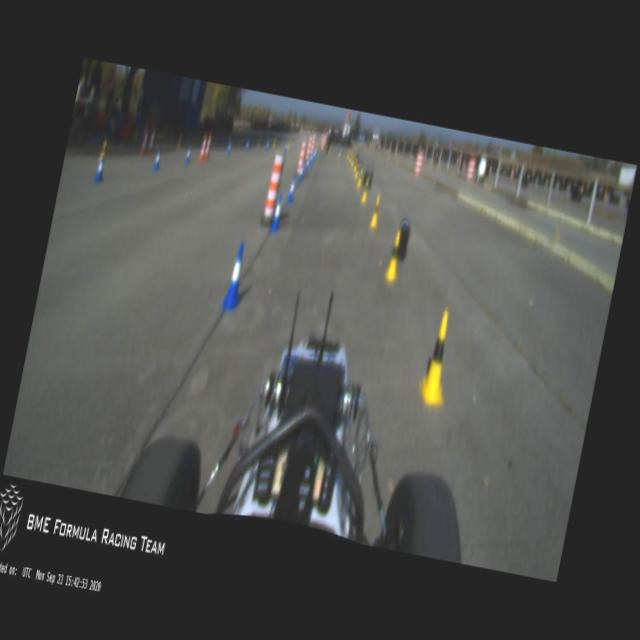blue_cone: (220, 240, 252, 312), (270, 195, 284, 233), (92, 156, 108, 184), (286, 177, 297, 204), (152, 148, 162, 172), (184, 145, 192, 164), (304, 156, 312, 174), (298, 163, 305, 182), (226, 140, 232, 156), (244, 140, 250, 152)
large_orange_cone: (198, 134, 208, 162), (203, 133, 213, 161)
yellow_cone: (416, 308, 461, 406), (383, 228, 406, 282), (369, 194, 384, 228), (98, 140, 109, 164), (360, 178, 370, 203), (356, 168, 364, 188), (354, 163, 361, 180), (352, 158, 358, 174), (350, 154, 356, 168), (346, 147, 351, 160), (348, 151, 352, 164), (338, 146, 342, 158)
